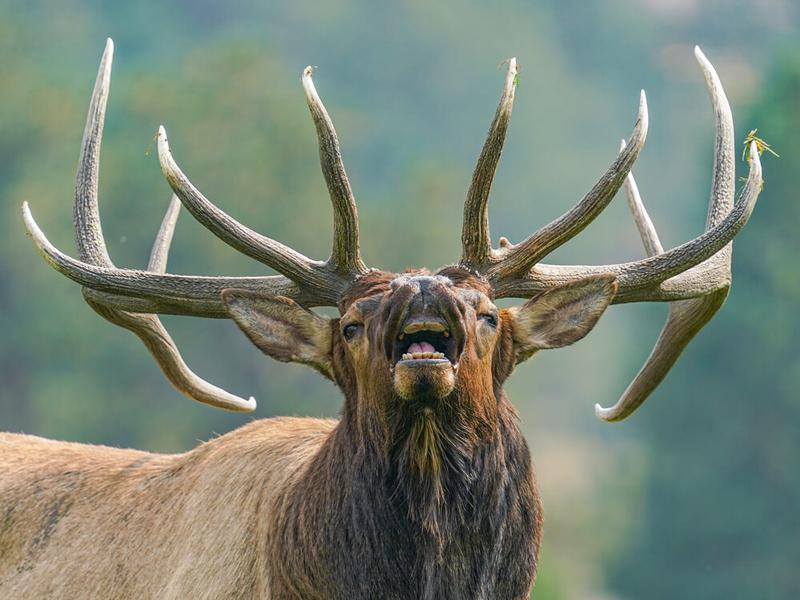elk: (1, 120, 761, 600)
